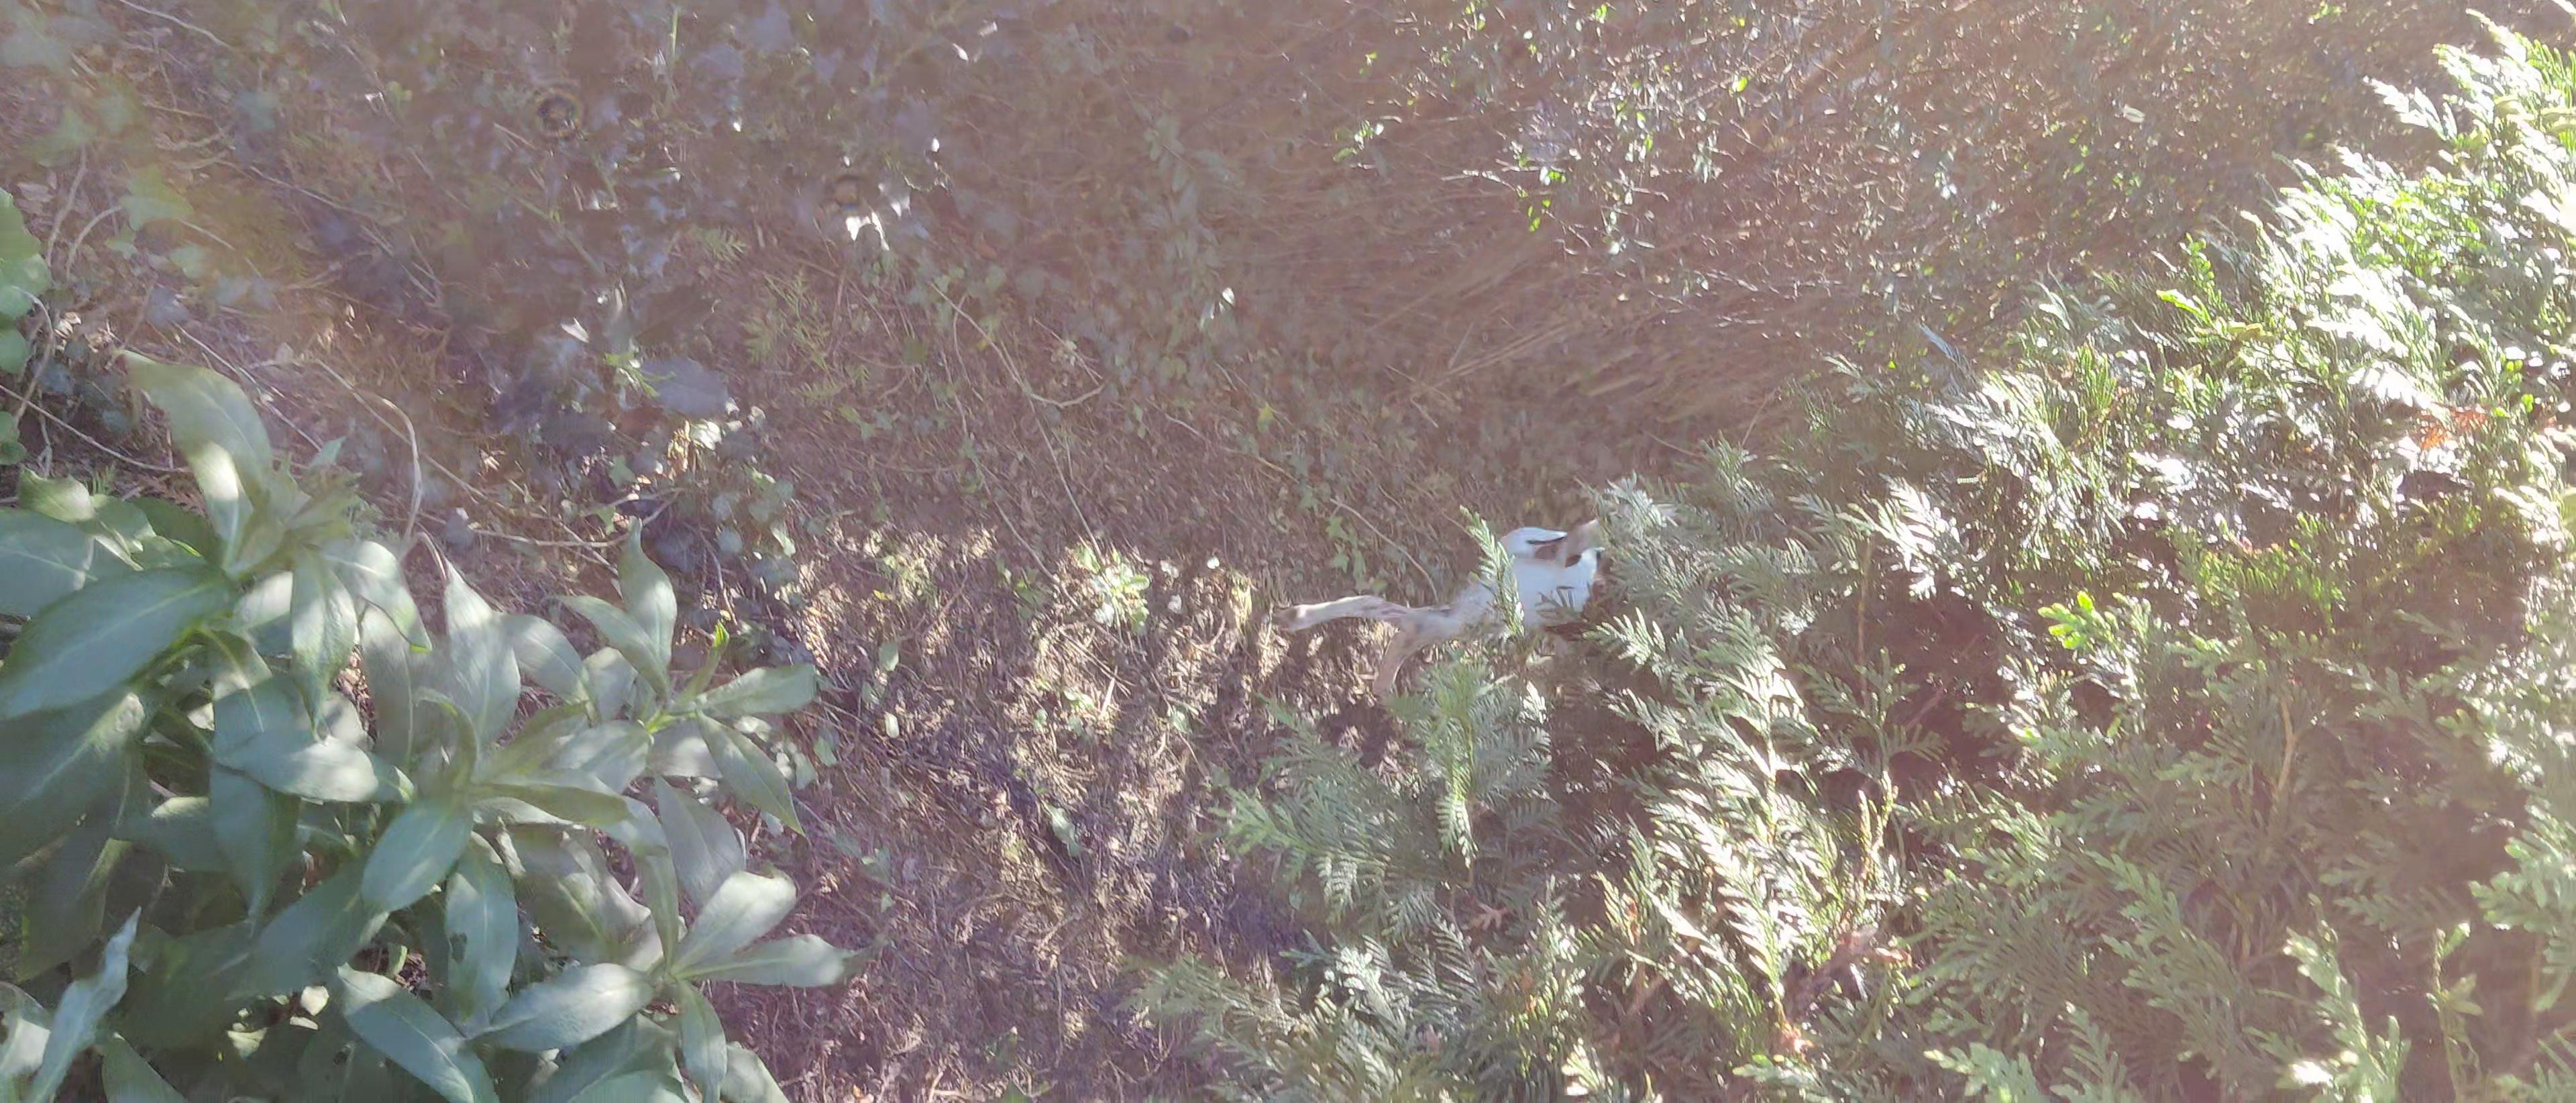Dog: (1281, 505, 1738, 702)
